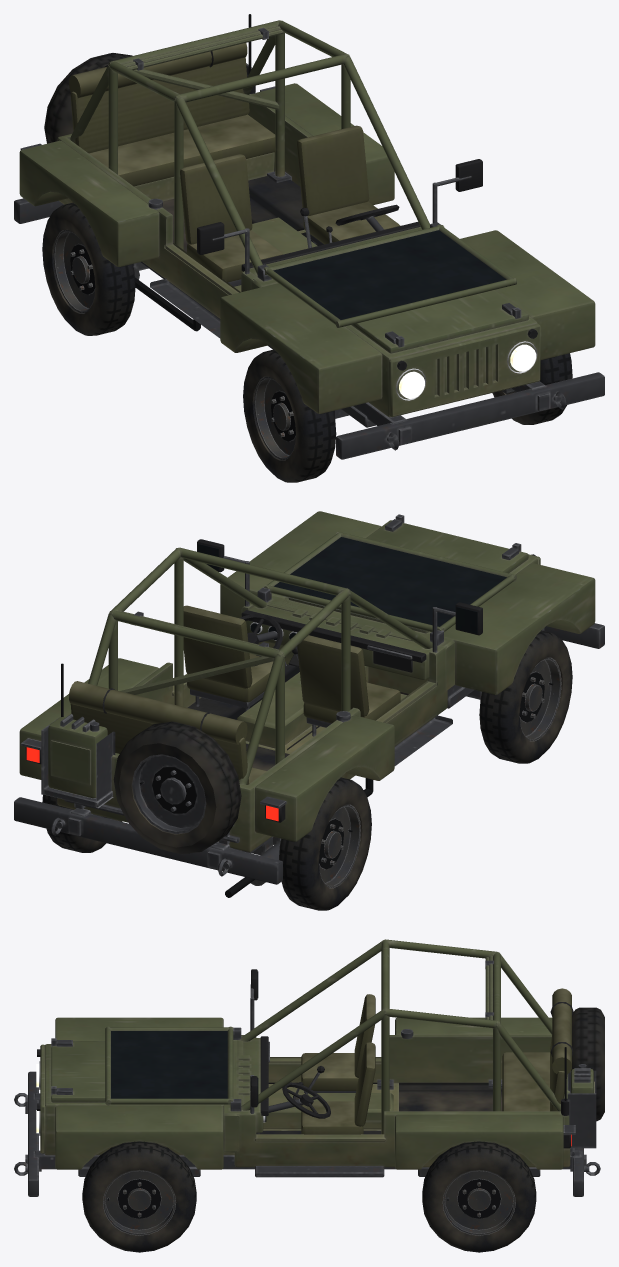
The model's file is jeep.glb.
3 renders of one model, top to bottom at view 1: azimuth 30°, elevation 25°; view 2: azimuth 150°, elevation 25°; view 3: azimuth 270°, elevation 25°, orthographic. The views are drawn at different scales.
Visible parts, largest first — view 1: body, wheel_rl, wheel_fl, wheel_fr; view 2: body, wheel_fl, wheel_rl, wheel_rr; view 3: body, wheel_fr, wheel_rr.
Part boxes in pixels (x1,y1,x2,y2): body: (14, 14, 604, 459); wheel_rl: (42, 202, 135, 335); wheel_fl: (243, 349, 336, 482); wheel_fr: (492, 353, 572, 424); body: (14, 511, 604, 897); wheel_fl: (479, 630, 572, 763); wheel_rl: (279, 777, 371, 910); wheel_rr: (42, 794, 122, 852); body: (14, 939, 604, 1196); wheel_fr: (82, 1141, 196, 1252); wheel_rr: (422, 1141, 536, 1252).
Bounding box in the file's own units: 2.04 × 1.83 × 4.35.
Materials: 2 (2 with a texture image).
